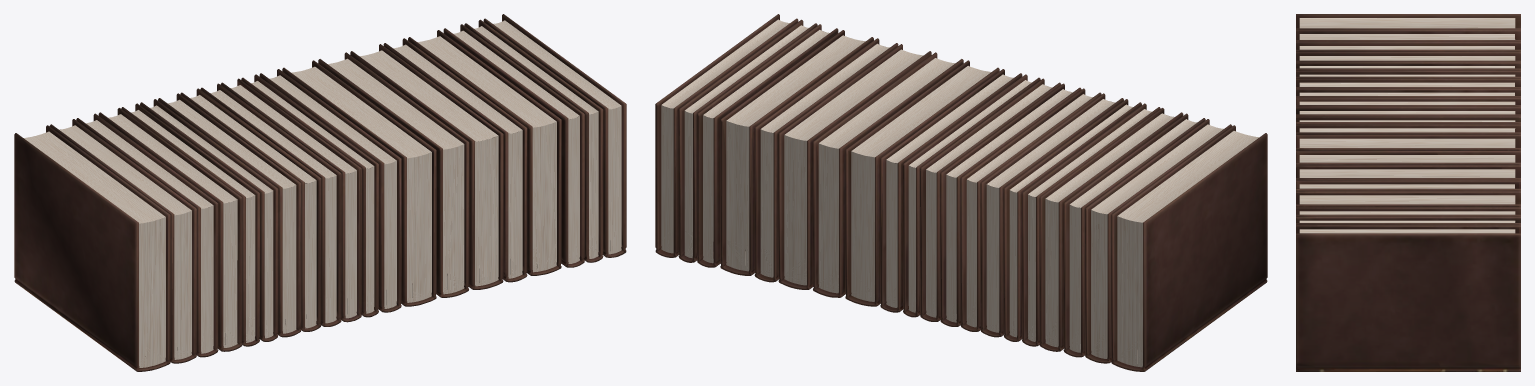
Rendered from books-opt.glb.
3 views of the same model, side by side, from view 1: azimuth 30°, elevation 25°; view 2: azimuth 150°, elevation 25°; view 3: azimuth 270°, elevation 25° (orthographic). The views are drawn at different scales.
Parts seen in each view (by area): view 1: book_encyclopedia_set_01_book01; view 2: book_encyclopedia_set_01_book01; view 3: book_encyclopedia_set_01_book01.
Boxes of the visible parts, x1,y1,x2,y2 form: book_encyclopedia_set_01_book01: (14,14,626,371); book_encyclopedia_set_01_book01: (655,14,1267,371); book_encyclopedia_set_01_book01: (1296,14,1520,371).
Size of the model in its own units: 0.5513 by 0.1631 by 0.2374.
Materials: 2 (2 with a texture image).
